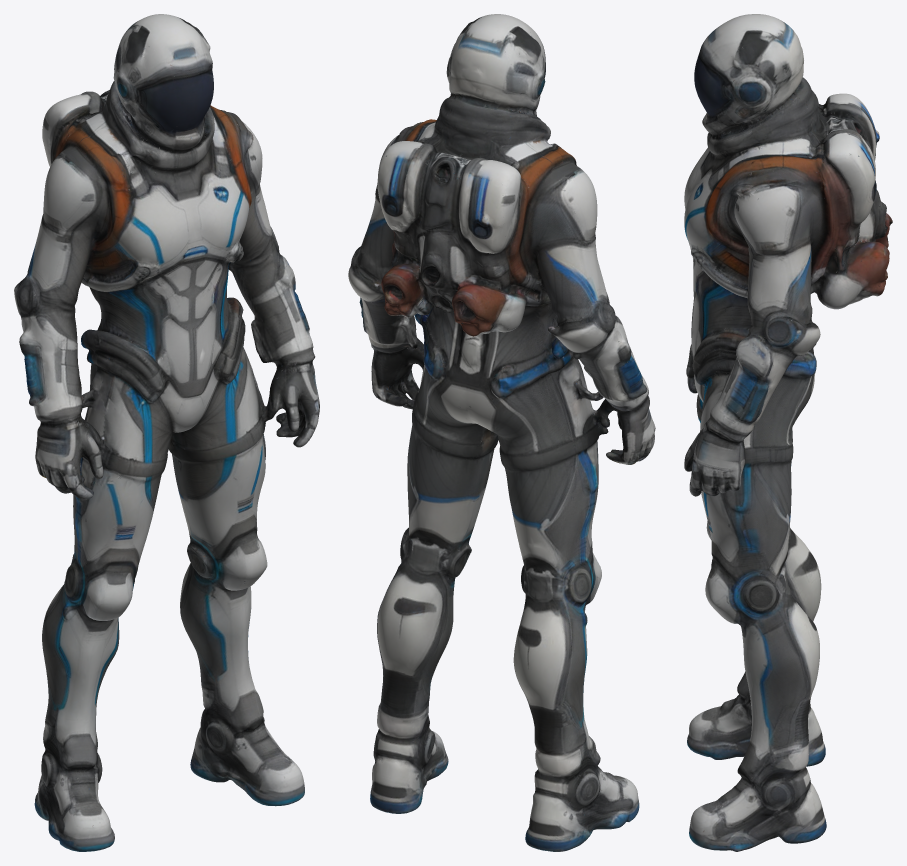
Rendered from astronaut2.glb.
3 views of the same model, side by side, from view 1: azimuth 30°, elevation 25°; view 2: azimuth 150°, elevation 25°; view 3: azimuth 270°, elevation 25° (orthographic).
Bounding box in the file's own units: 0.7463 × 2 × 0.4859.
1 material, 1 textured.
